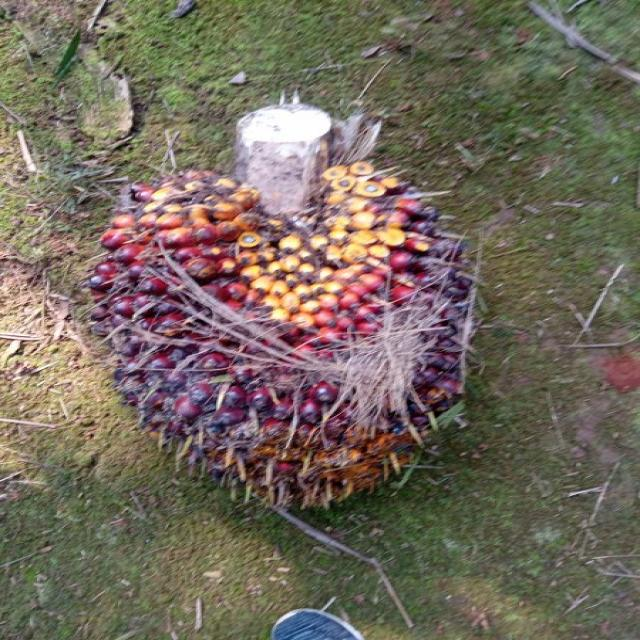fraksi 1: (53, 87, 506, 570)
